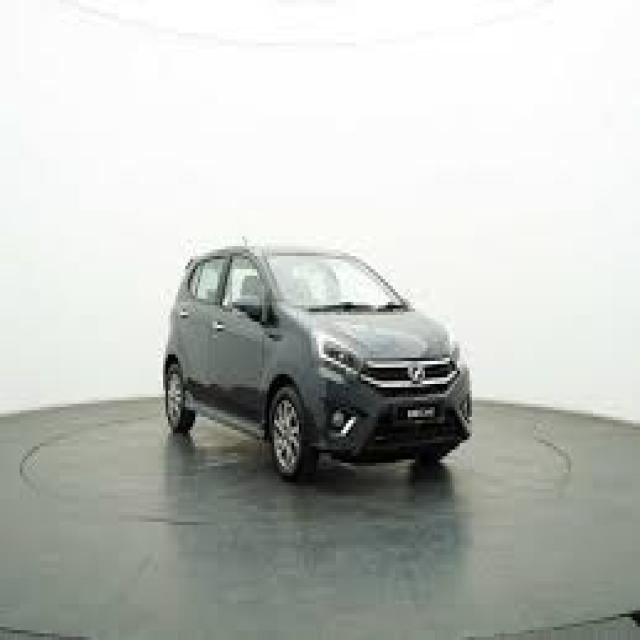PeroduaAxia: (161, 237, 472, 482)
